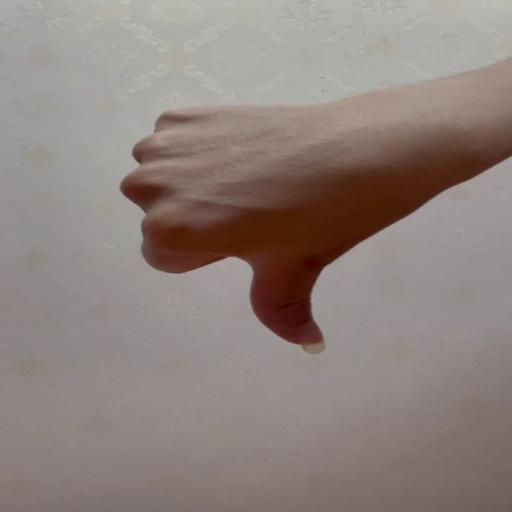thumbs_down: (117, 103, 458, 355)
